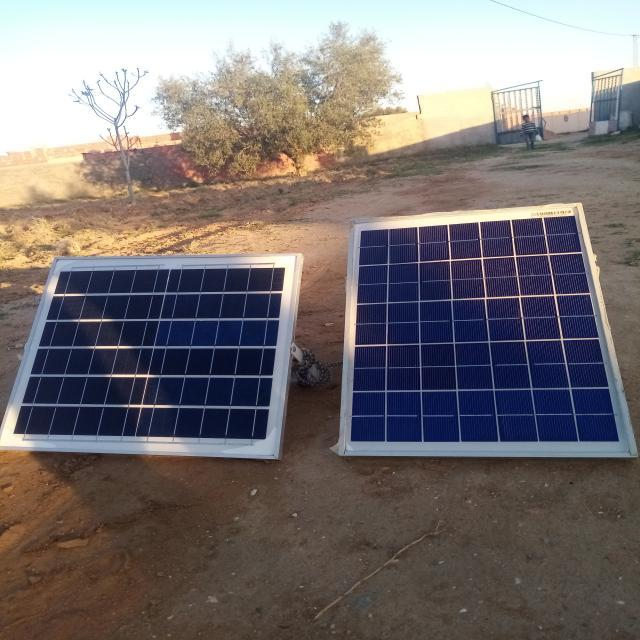no faulty: (338, 209, 640, 460), (0, 252, 299, 454)
